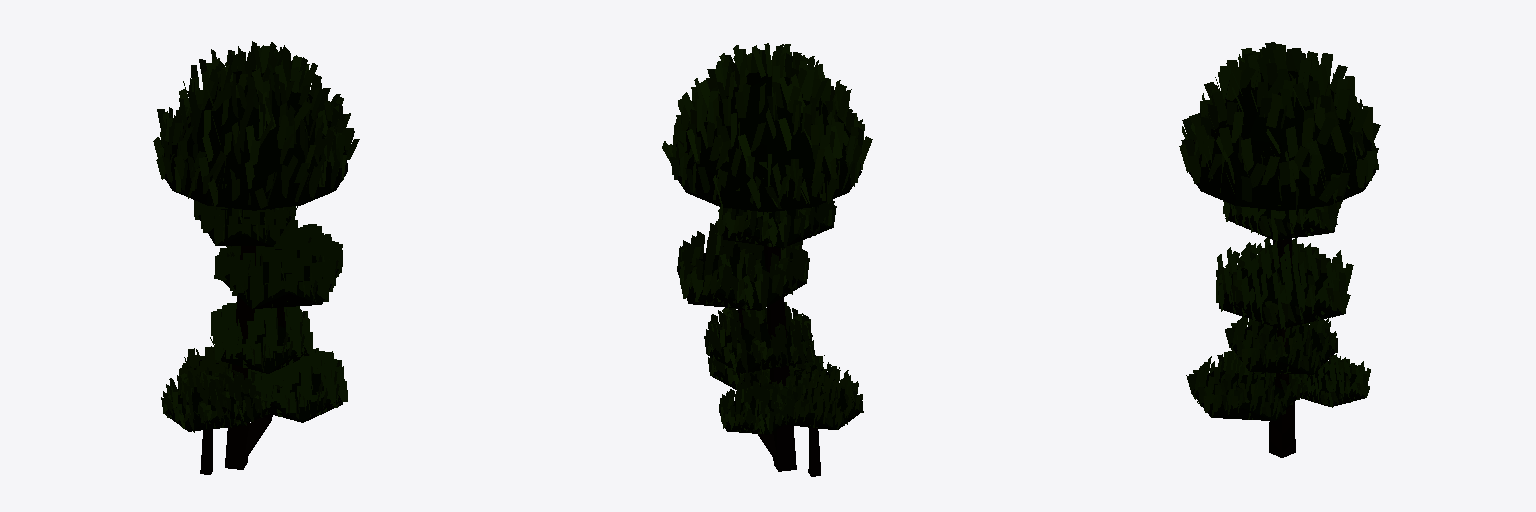
The model's file is Tree2.obj.
3 renders of one model, left to right at view 1: azimuth 30°, elevation 25°; view 2: azimuth 150°, elevation 25°; view 3: azimuth 270°, elevation 25°, orthographic.
Visible parts, largest first — view 1: Tree2_Cube.053; view 2: Tree2_Cube.053; view 3: Tree2_Cube.053.
Part boxes in pixels (left/top/right/bottom): Tree2_Cube.053: left=153, top=41, right=359, bottom=474; Tree2_Cube.053: left=662, top=43, right=872, bottom=476; Tree2_Cube.053: left=1179, top=42, right=1380, bottom=457.
Size of the model in its own units: 3.35 by 7.39 by 3.28.